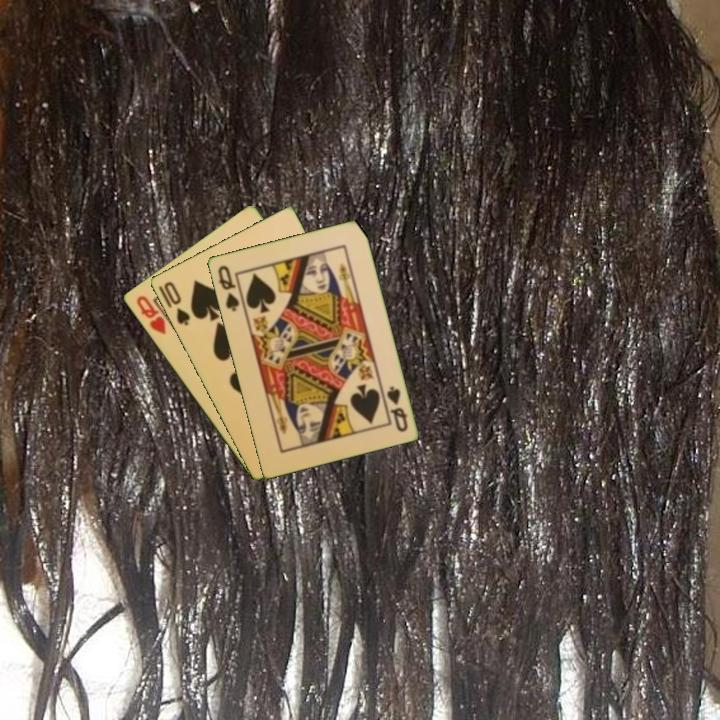10s: (160, 278, 193, 329)
Qh: (132, 292, 169, 337)
Qs: (214, 261, 242, 314), (383, 382, 410, 435)
